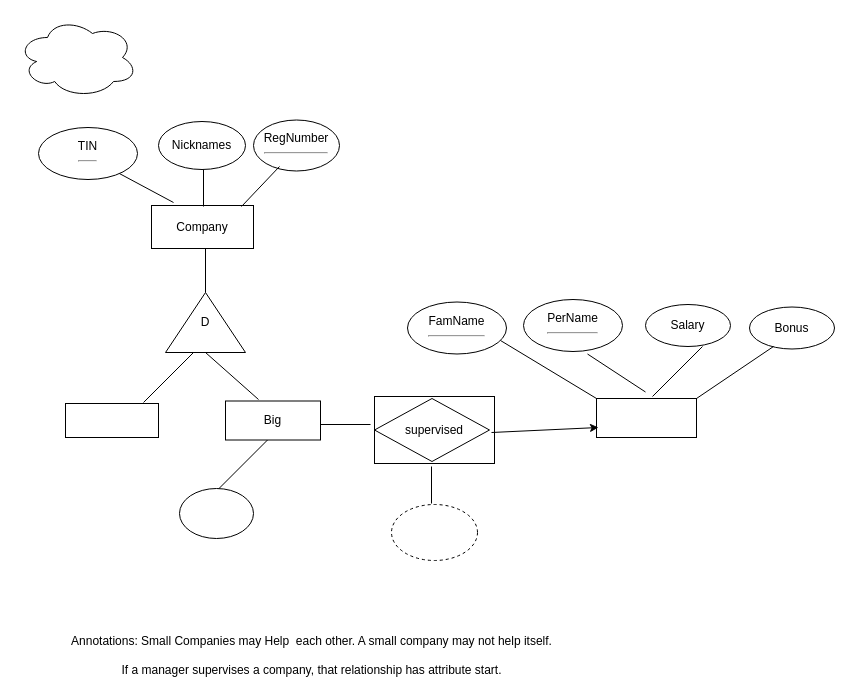
This 852x696 diagram has some shape labels left out. The centre of each missing label's shape, as x and y in pixels:
"jy3555" belongs at point (77, 57).
"managers" belongs at point (646, 418).
"Small" belongs at point (111, 420).
"Start" belongs at point (434, 532).
"value" belongs at point (216, 513).
